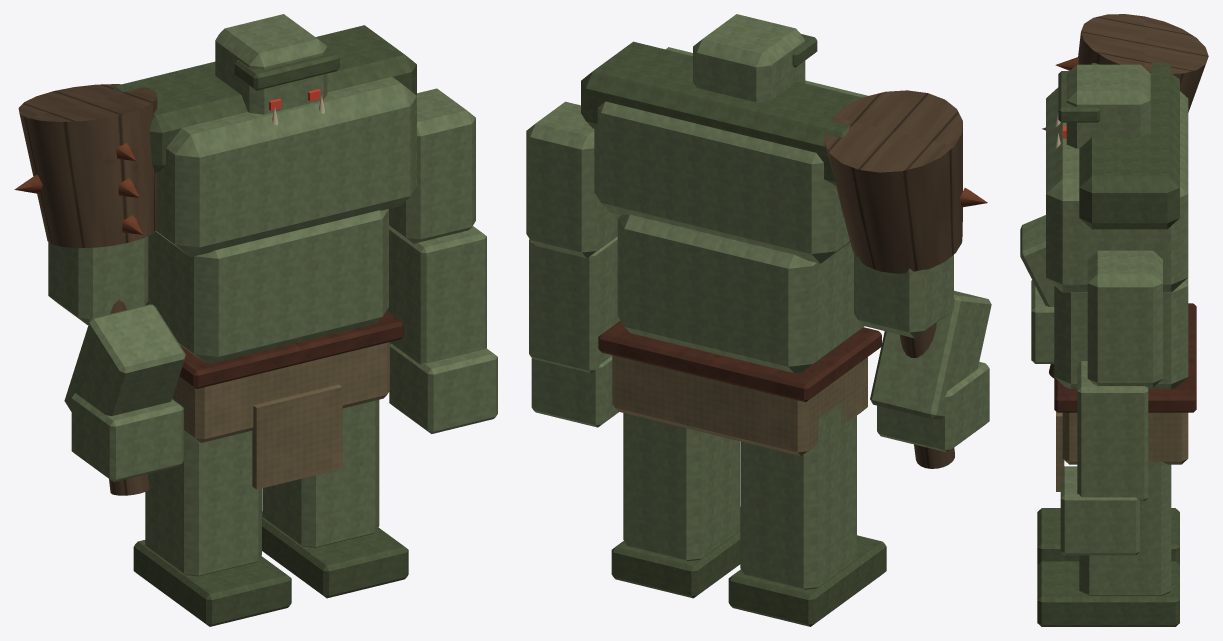
The picture shows the model from 3 angles, left to right: view 1: azimuth 30°, elevation 25°; view 2: azimuth 150°, elevation 25°; view 3: azimuth 270°, elevation 25°; orthographic projection. The views are drawn at different scales.
Parts seen in each view (by area): view 1: survival_behemoth; view 2: survival_behemoth; view 3: survival_behemoth.
Part boxes in pixels (x1,y1,x2,y2): survival_behemoth: [14, 14, 497, 626]; survival_behemoth: [526, 14, 991, 626]; survival_behemoth: [1020, 14, 1208, 626].
Size of the model in its own units: 5.78 by 6.65 by 2.25.
8 materials, 8 textured.
